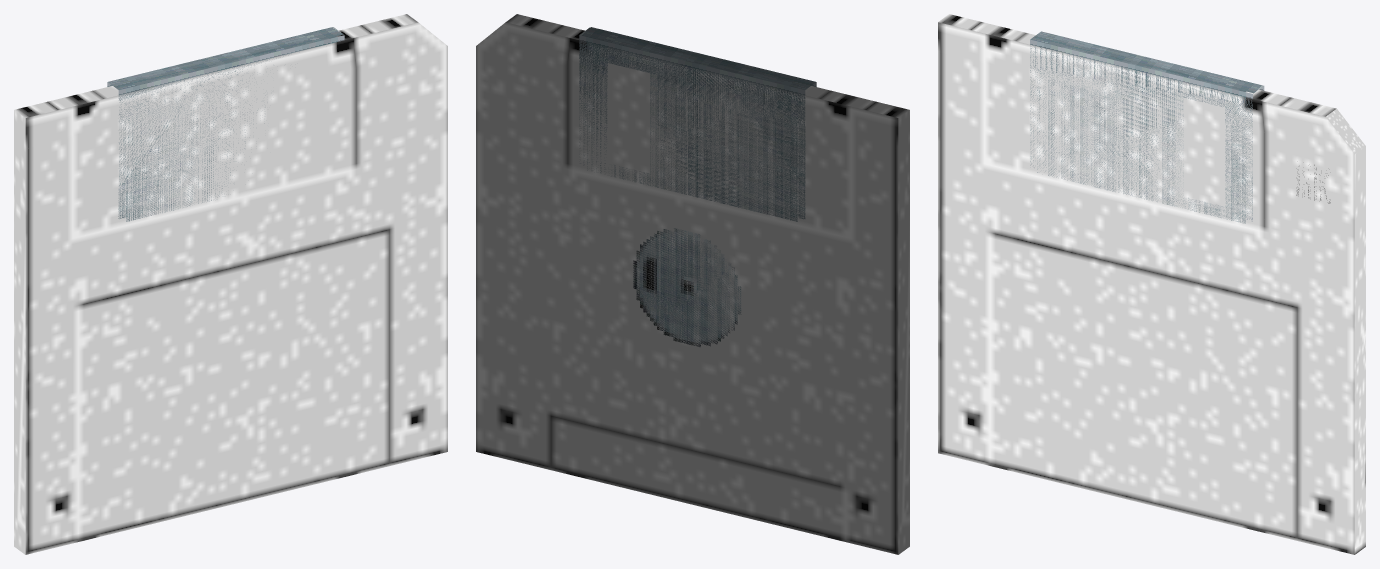
File: GexplosivefloppyZ.obj
The picture shows the model from 3 angles, left to right: view 1: azimuth 30°, elevation 25°; view 2: azimuth 150°, elevation 25°; view 3: azimuth 330°, elevation 25°; orthographic projection.
Size of the model in its own units: 86 by 86 by 4.
Materials: 6 (6 with a texture image).
